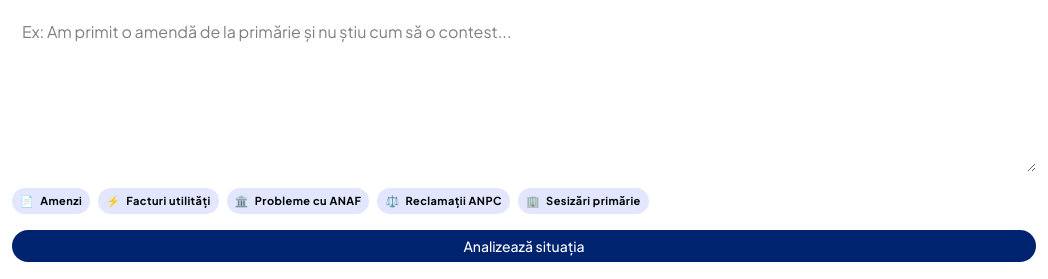
Test case: ProblemInput › fills the textarea when a quick category is clicked
Click the button "🏛️ Probleme cu ANAF" at (298, 201), box [227,188,369,214]
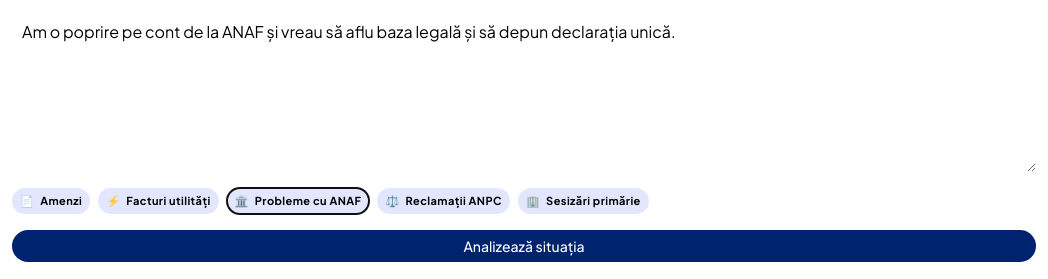
Expected: the text box named "Descrierea problemei" holds "Am o poprire pe cont de la ANAF și vreau să aflu baza legală și să depun declarația unică.", [12,12,1036,172]
